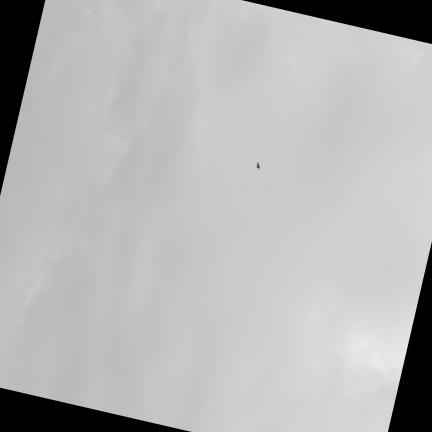Shahed: (256, 163, 259, 169)
